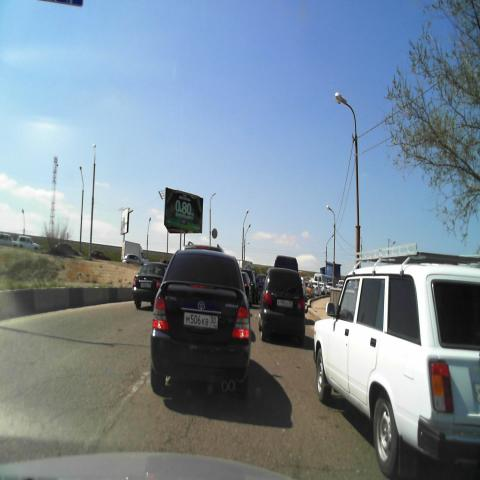3_2: (212, 228, 218, 238)
